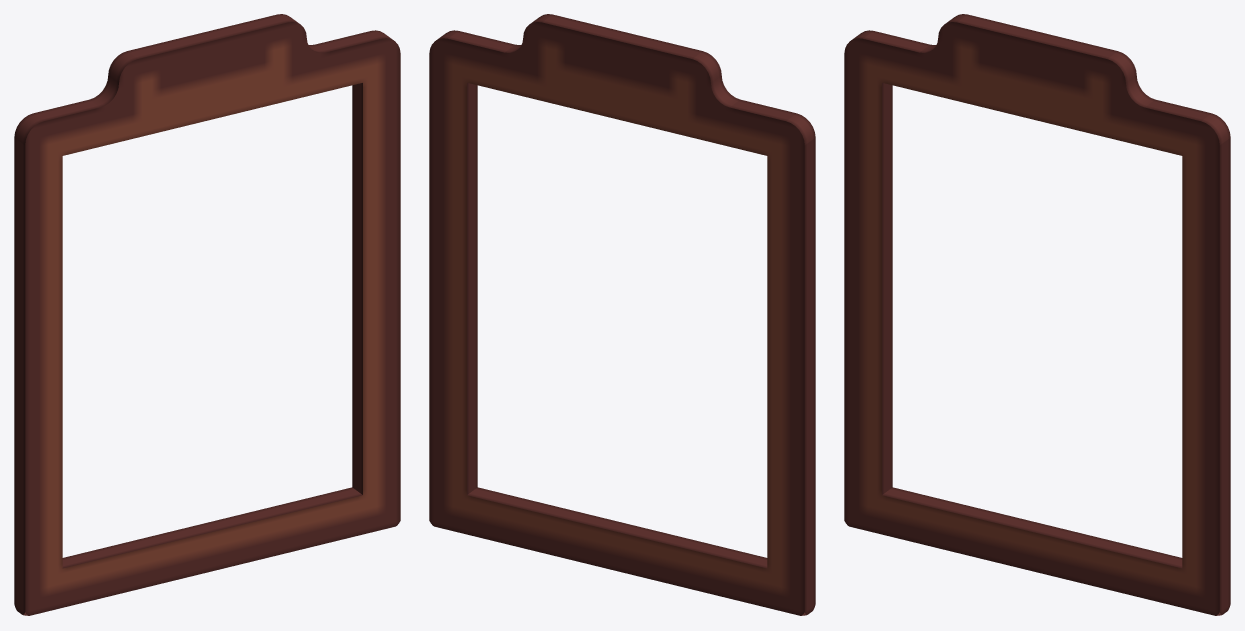
File: Frame.obj
3 views of the same model, side by side, from view 1: azimuth 30°, elevation 25°; view 2: azimuth 150°, elevation 25°; view 3: azimuth 330°, elevation 25° (orthographic).
Size of the model in its own units: 20 by 27 by 1.
Materials: 1 (1 with a texture image).
